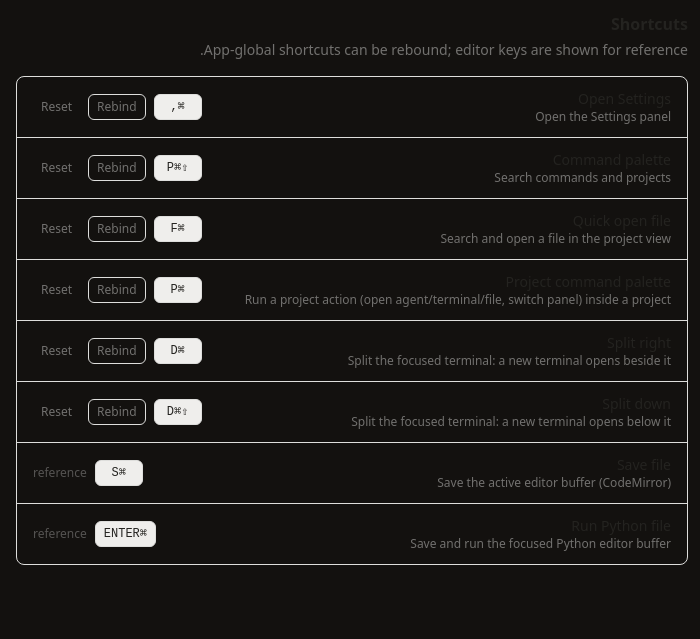
Settings sections › Shortcuts refuses a reset when another action uses the default chord
Step 1. Click the button with test id "shortcut-command-palette-rebind" → click(117, 168), box [88,155,146,181]
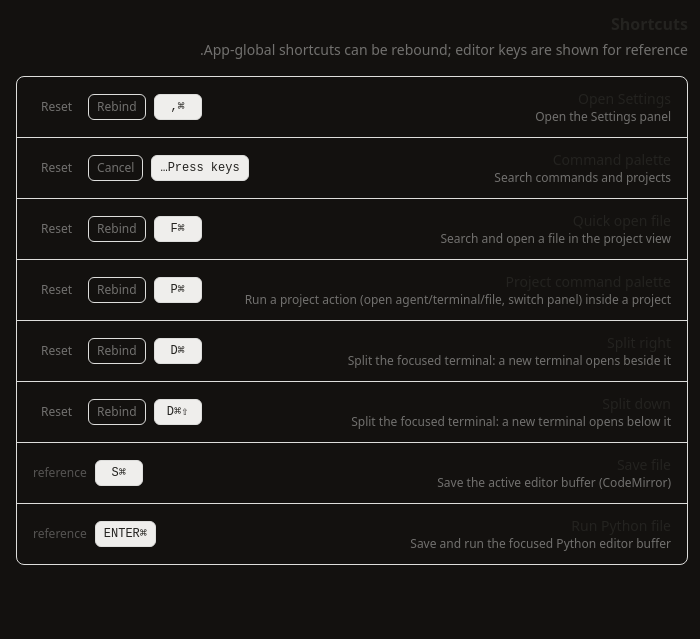
Step 2. Press k
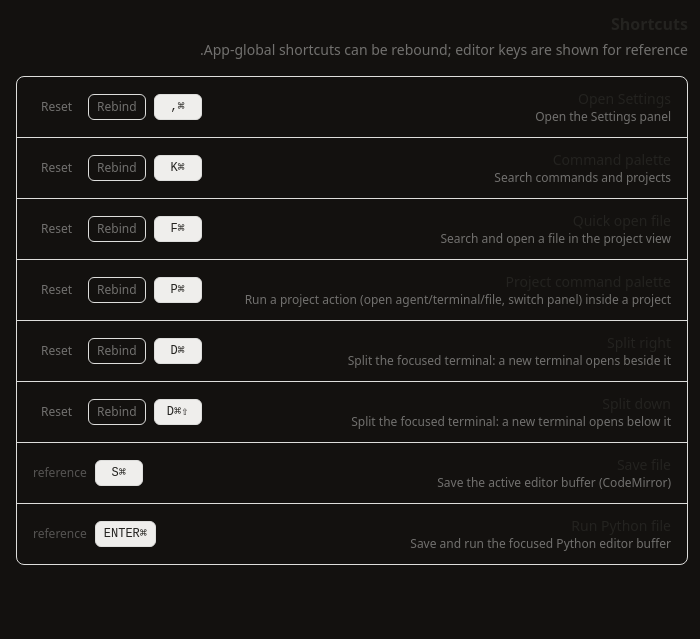
Step 3. Click the button with test id "shortcut-quick-open-rebind" → click(117, 229), box [88,216,146,242]
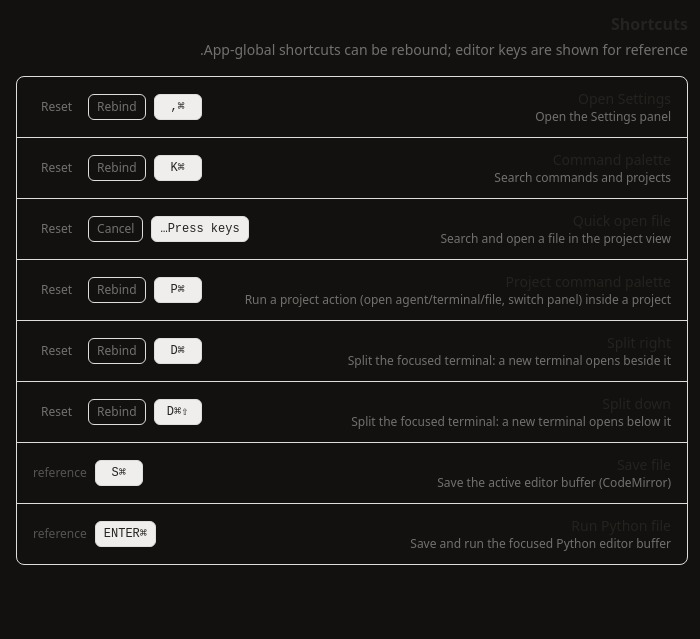
Step 4. Press p
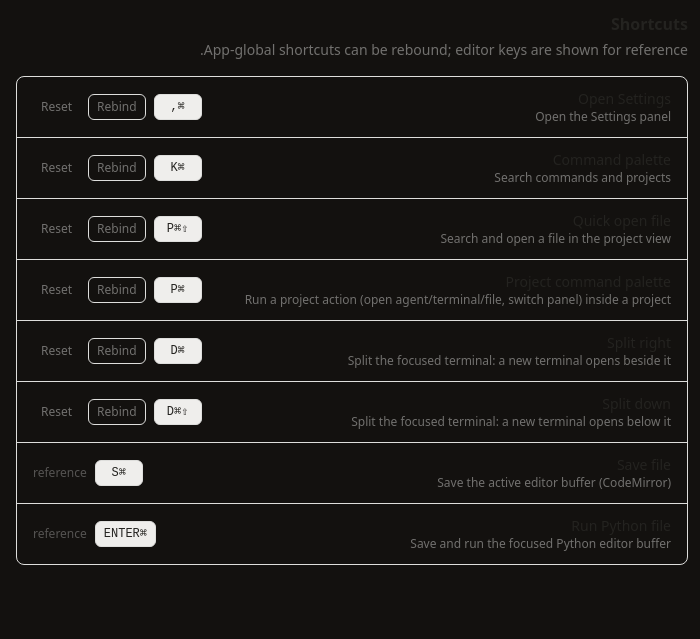
Check: the text with test id "shortcut-command-palette" reads "⌘K", box [170,161,185,175]
Check: the text with test id "shortcut-quick-open" reads "⇧⌘P", box [167,222,188,236]
Step 5. Click the button with test id "shortcut-command-palette-reset" → click(57, 168), box [33,156,80,180]
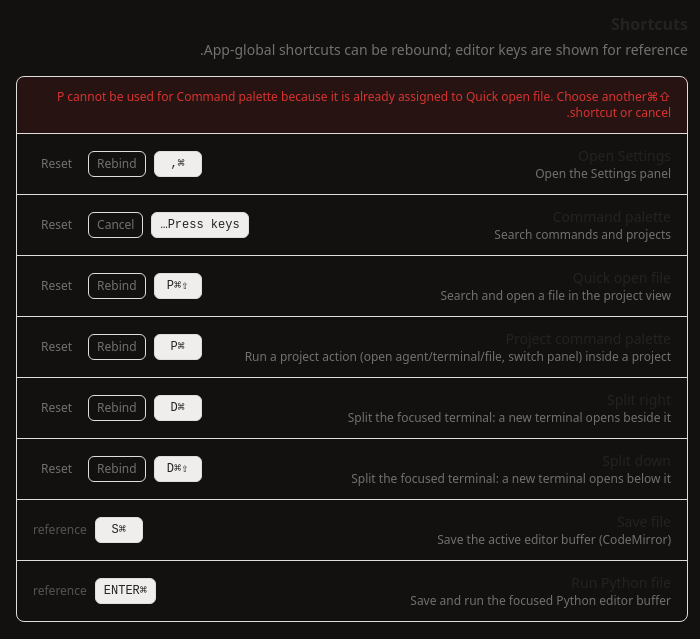
Check: the message shows "⇧⌘P", box [57,88,671,105]
Check: the message shows "Quick open file", box [466,88,550,105]
Check: the text with test id "shortcut-command-palette" reads "Press keys…", box [160,218,240,232]
Step 6. Click the button with test id "shortcut-command-palette-rebind" → click(116, 225), box [88,212,144,238]
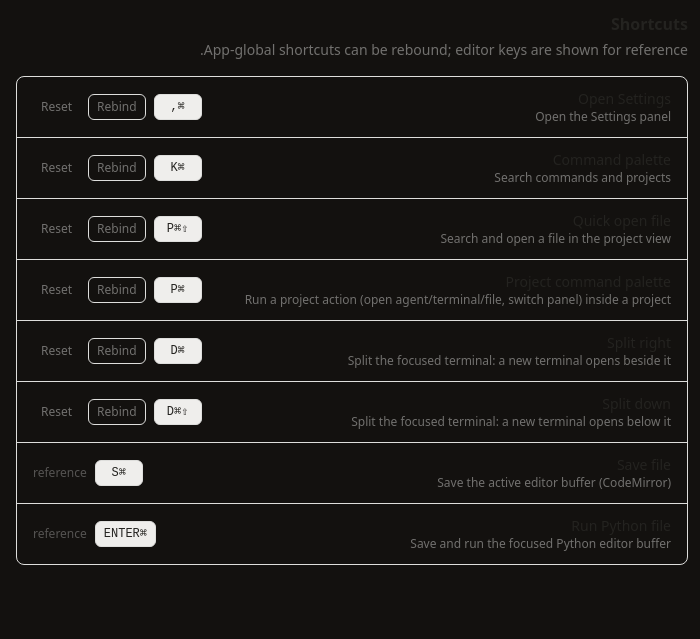
Check: the text with test id "shortcut-command-palette" reads "⌘K", box [170,161,185,175]
